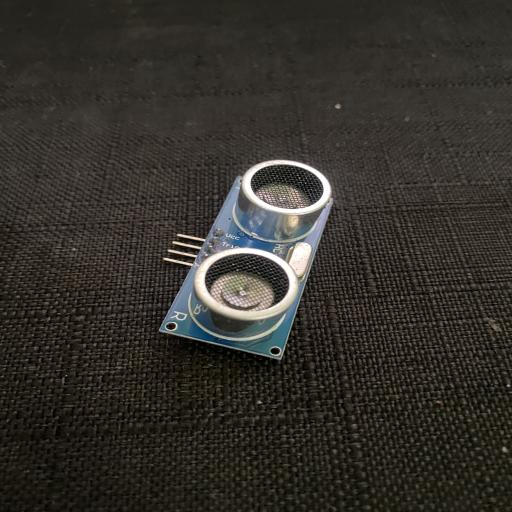Ultrasonic Sensor: (158, 159, 332, 361)
